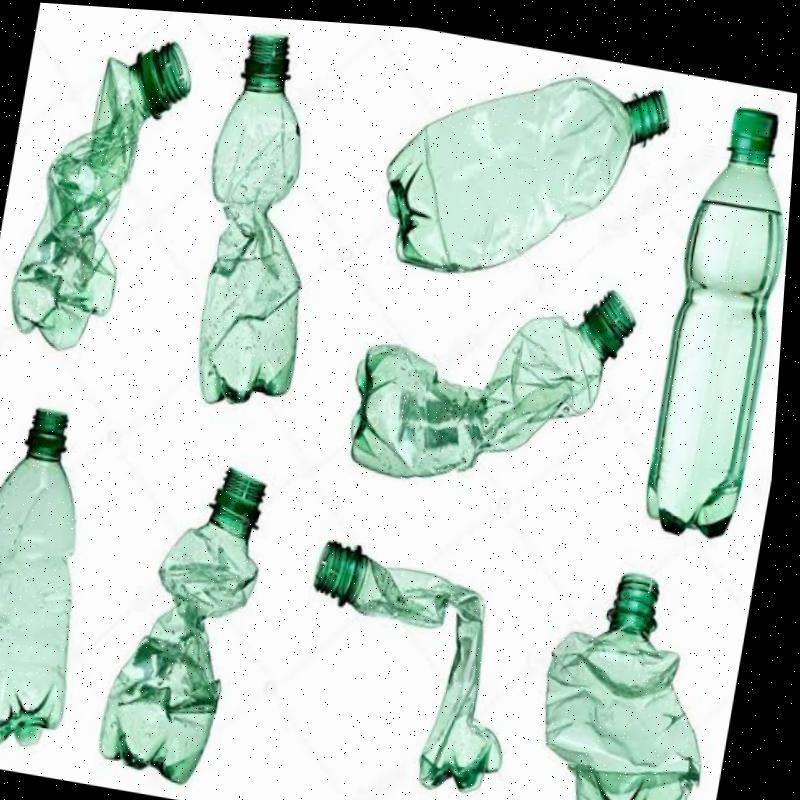plastic bottle: (642, 104, 786, 544), (383, 76, 671, 277), (8, 40, 192, 354), (93, 469, 266, 788), (349, 295, 633, 482), (311, 540, 503, 798), (196, 34, 305, 407), (541, 572, 702, 800), (0, 408, 78, 752)
